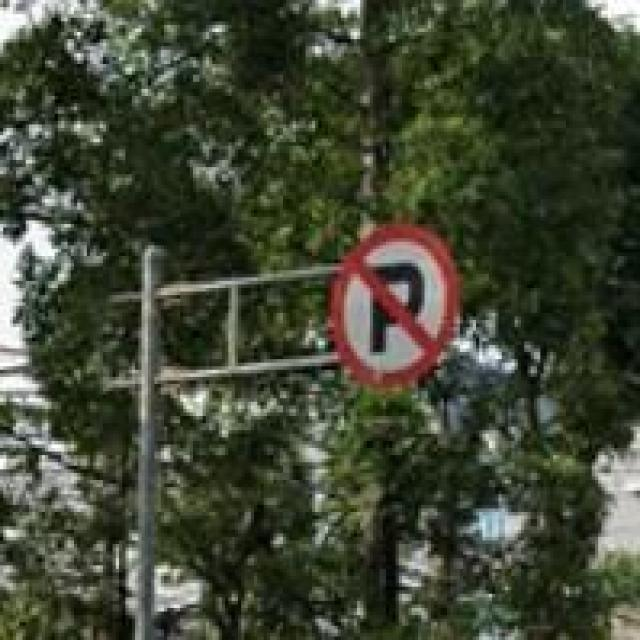traffic sign: (335, 228, 463, 388)
